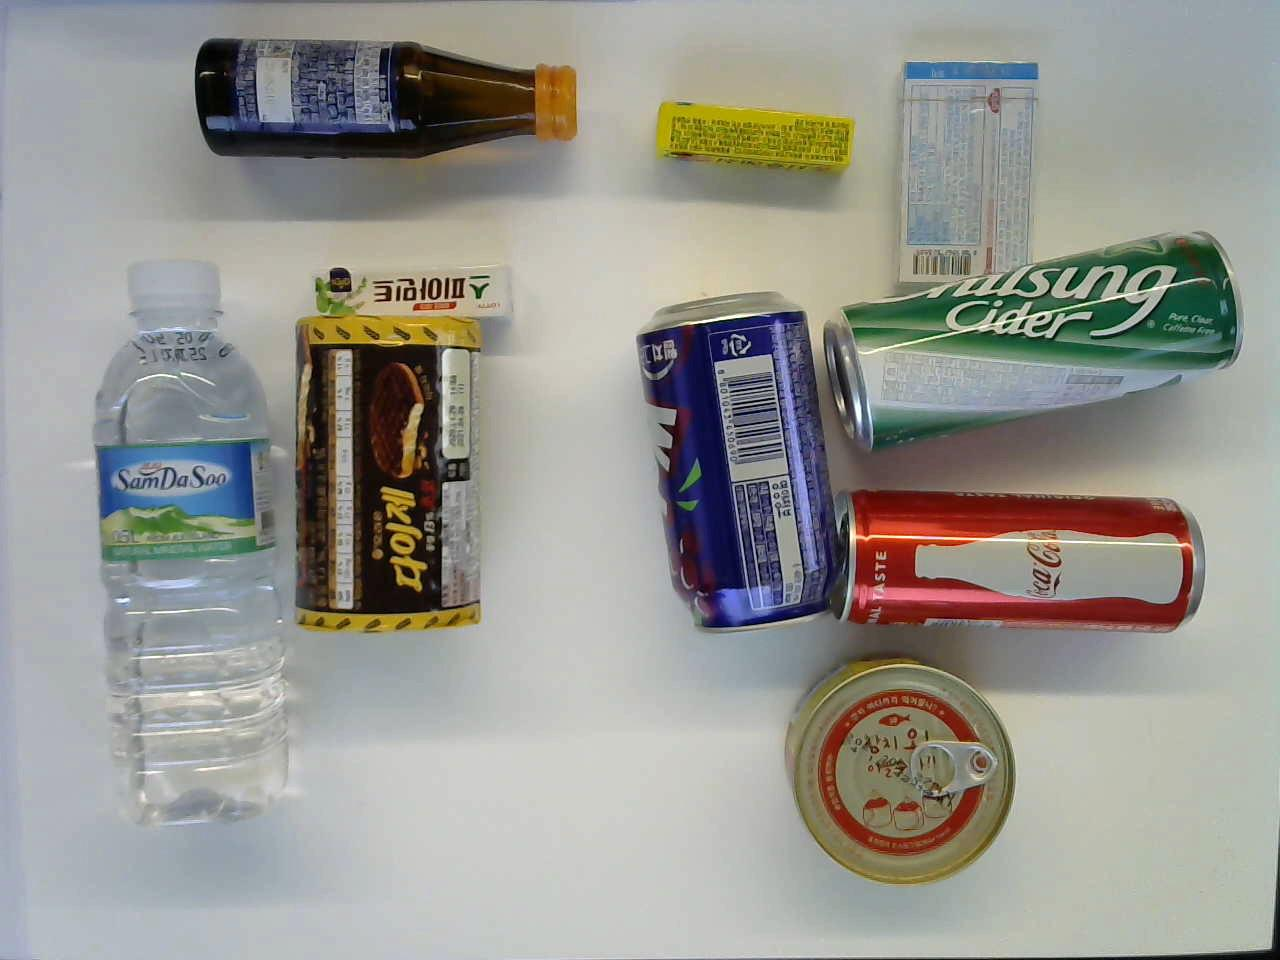ID_gum: (888, 54, 1044, 288)
cidar: (822, 225, 1246, 446)
coke: (829, 490, 1206, 629)
diget_choco: (294, 315, 489, 634)
juicyfresh: (650, 93, 857, 187)
samdasu: (83, 257, 299, 828)
spearmint: (310, 261, 520, 328)
tuna: (777, 651, 1017, 892)
vita500: (191, 34, 583, 168)
welchs: (626, 283, 839, 635)
